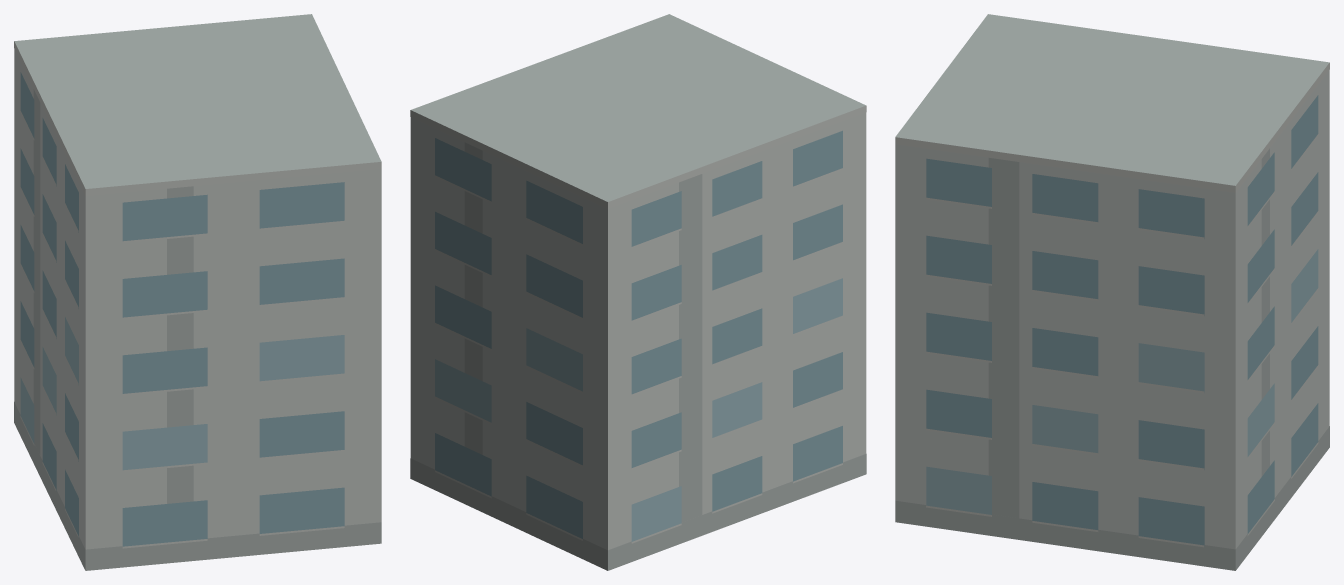
The model's file is survey-upis-32884271.glb.
3 renders of one model, left to right at view 1: azimuth 30°, elevation 25°; view 2: azimuth 150°, elevation 25°; view 3: azimuth 270°, elevation 25°, orthographic. The views are drawn at different scales.
Parts seen in each view (by area): view 1: survey-upis-32884271.tmp; view 2: survey-upis-32884271.tmp; view 3: survey-upis-32884271.tmp.
Boxes of the visible parts, x1=… form: survey-upis-32884271.tmp: x1=14, y1=14, x2=381, y2=570; survey-upis-32884271.tmp: x1=410, y1=14, x2=866, y2=570; survey-upis-32884271.tmp: x1=895, y1=14, x2=1329, y2=570.
Bounding box in the file's own units: 12.45 × 13 × 13.31.
